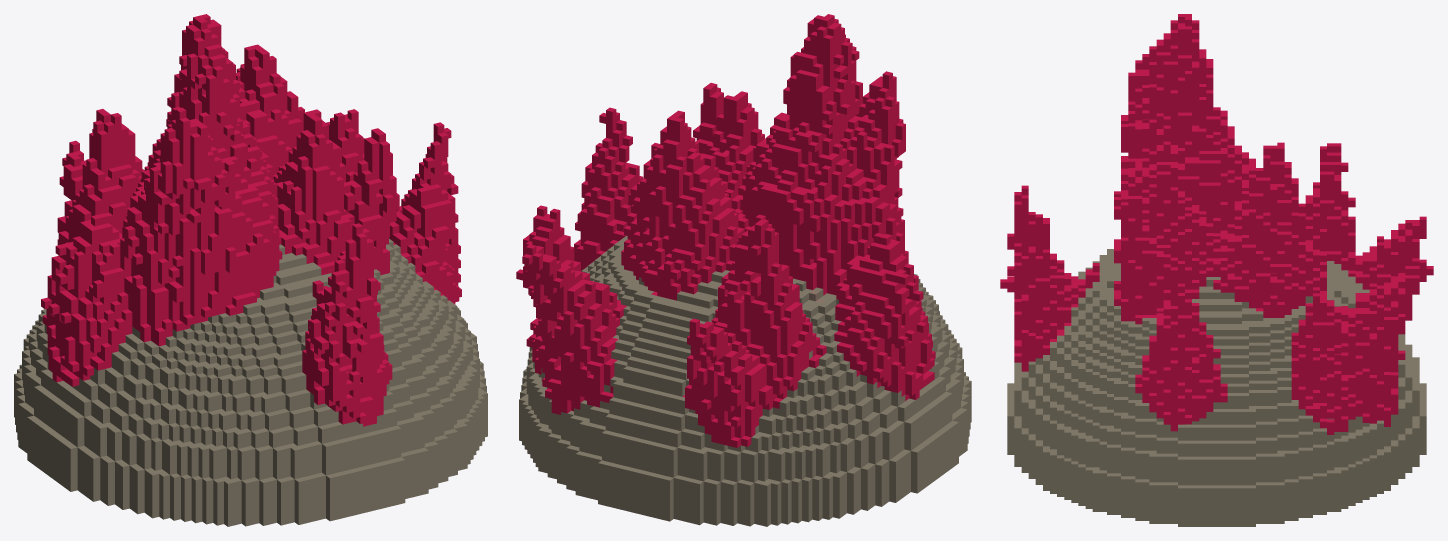
File: CrystalClusterRed.obj
3 views of the same model, side by side, from view 1: azimuth 30°, elevation 25°; view 2: azimuth 150°, elevation 25°; view 3: azimuth 270°, elevation 25° (orthographic). The views are drawn at different scales.
Bounding box in the file's own units: 59 × 61 × 61.
1 material, 1 textured.
